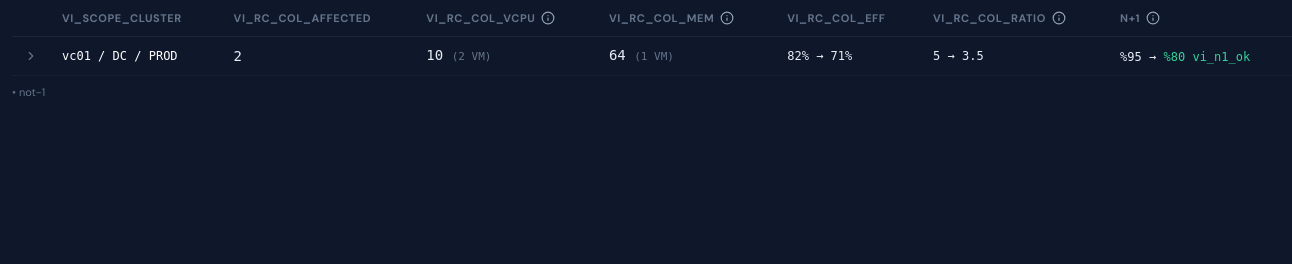
Geri kazanım simülasyonu › sonuç: vCPU ve Memory kazanımı ayrı, önce→sonra değerleri, detay açılır
Expected: the cell with test id "rc-vcpu" shows "10", [426, 47, 443, 63]
Expected: the cell with test id "rc-mem" shows "64", [609, 47, 626, 63]
Click the row with test id "rc-row": [652, 56] box [12, 36, 1291, 76]
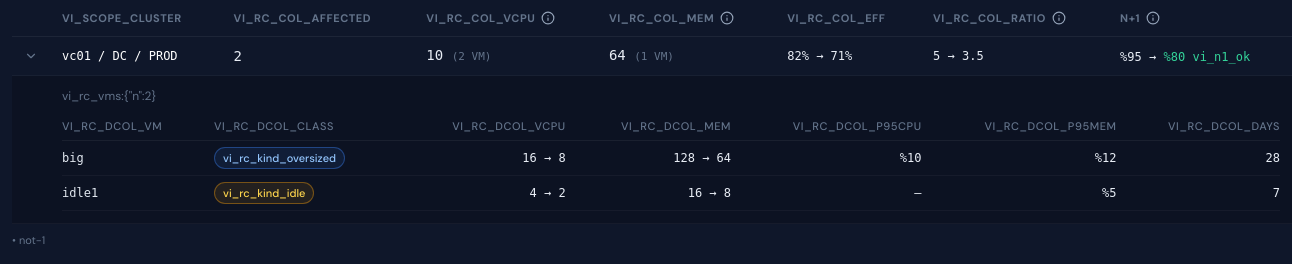
Expected: the text "• not-1" is shown, [12, 233, 45, 247]
Now the cell with test id "rc-detail" shows "vi_rc_kind_oversized", box [223, 151, 336, 165]
